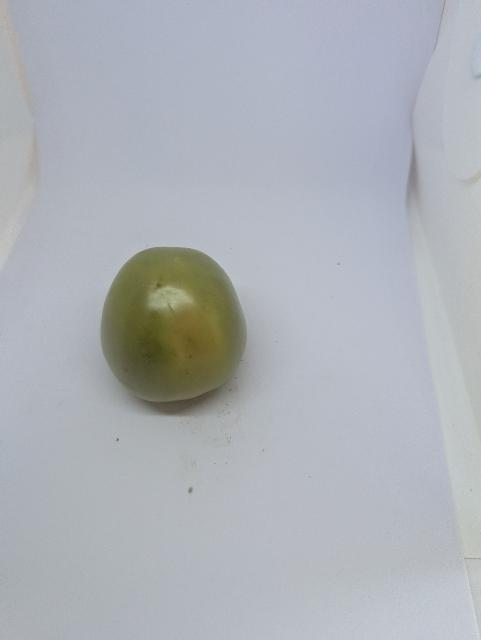green: (82, 224, 258, 428)
